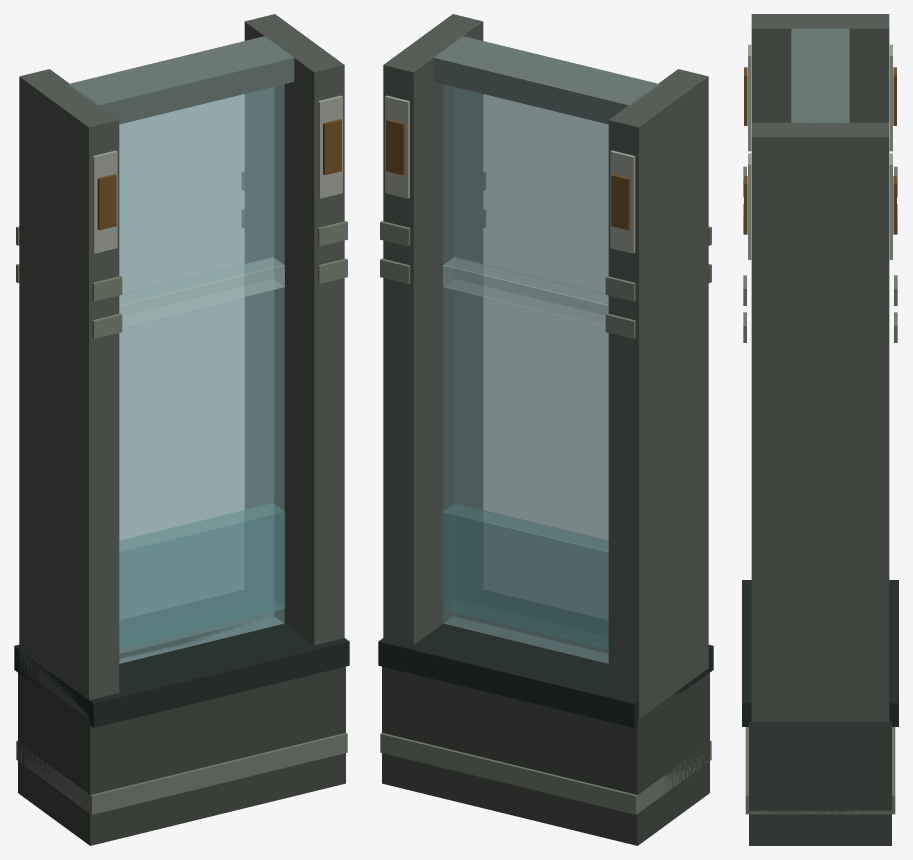
The model's file is CMU3DHybrisaEngineeringWindow.glb.
The picture shows the model from 3 angles, left to right: view 1: azimuth 30°, elevation 25°; view 2: azimuth 150°, elevation 25°; view 3: azimuth 270°, elevation 25°; orthographic projection.
Parts seen in each view (by area): view 1: department window pier (×2), large pale blue pane, window lower structural course, glass lower blue band, raised dark sill, window crown rail, pale lower sill trim, glass upper reflection band, window-pier top badge socket (×2), window department badge (×2); view 2: department window pier (×2), large pale blue pane, window lower structural course, glass lower blue band, raised dark sill, window crown rail, pale lower sill trim, glass upper reflection band, window-pier top badge socket (×2), window department badge (×2); view 3: department window pier (×2), window lower structural course, window crown rail, raised dark sill, window-pier top badge socket (×4), pale lower sill trim.
Part boxes in pixels (x1,y1,x2,y2): department window pier (×2): (19,14,344,718); large pale blue pane: (119,84,284,663); window lower structural course: (18,666,345,845); glass lower blue band: (119,504,285,648); raised dark sill: (14,612,349,727); window crown rail: (68,36,294,124); pale lower sill trim: (16,733,347,814); glass upper reflection band: (119,257,284,326); window-pier top badge socket (×2): (92,95,342,253); window department badge (×2): (97,119,341,230); department window pier (×2): (383,14,708,718); large pale blue pane: (443,84,608,663); window lower structural course: (382,666,709,845); glass lower blue band: (442,504,608,648); raised dark sill: (378,612,713,727); window crown rail: (432,36,659,124); pale lower sill trim: (380,733,711,814); glass upper reflection band: (443,257,608,326); window-pier top badge socket (×2): (385,95,635,253); window department badge (×2): (386,119,630,230); department window pier (×2): (751,14,889,721); window lower structural course: (749,721,891,845); window crown rail: (791,28,849,123); raised dark sill: (742,580,898,726); window-pier top badge socket (×4): (748,44,892,259); pale lower sill trim: (745,727,895,814).
Bounding box in the file's own units: 1 × 2.68 × 0.538.
